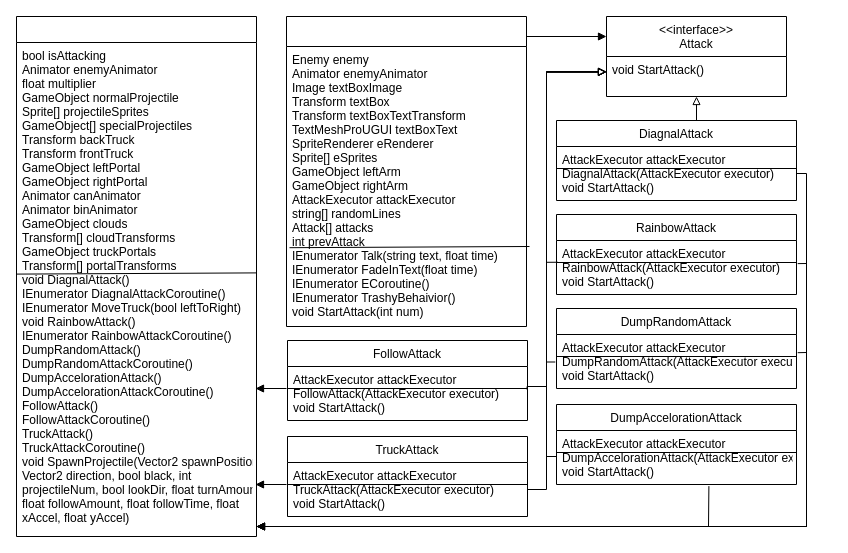
Some shapes in this 848 by 553 pixel diagram are drawn without their labels. Each missing label, with the box of its shape:
Attacker: (286, 16, 526, 326)
AttackExecutor: (16, 16, 256, 536)
